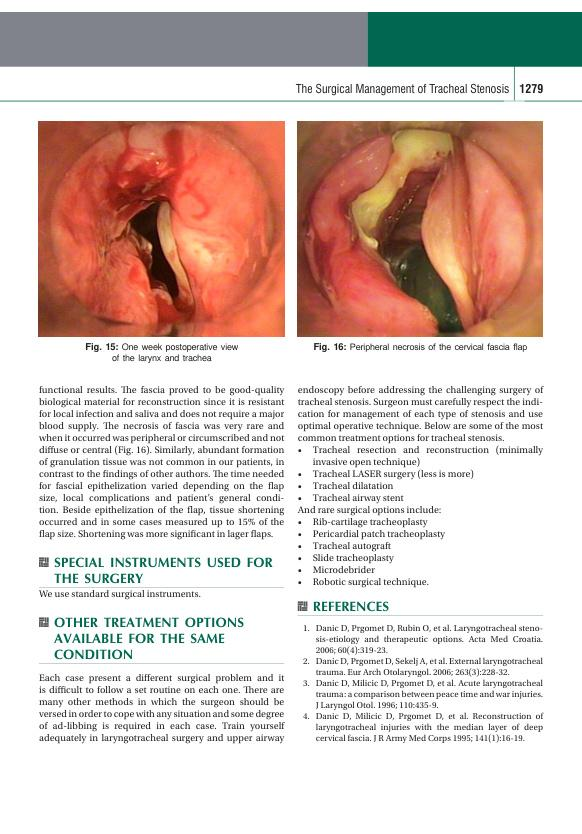caption: (84, 340, 240, 364), (312, 341, 529, 354)
header: (294, 82, 510, 97)
image: (38, 120, 285, 338), (296, 120, 543, 337)
list: (300, 623, 546, 745), (296, 444, 545, 504), (297, 517, 447, 590)
section-heading: (53, 615, 245, 662), (53, 556, 274, 584), (311, 599, 390, 613)
text: (37, 384, 286, 542), (38, 672, 286, 745), (296, 384, 545, 443), (37, 588, 202, 601), (297, 505, 442, 516)
